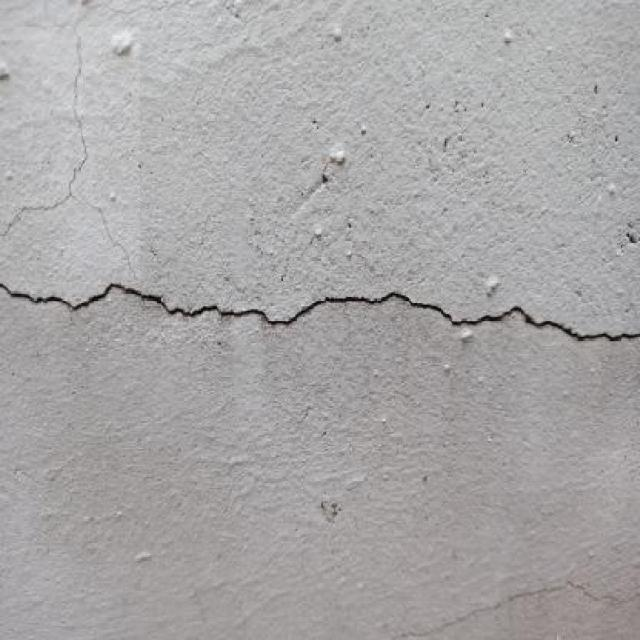horizontal crack: (0, 285, 639, 342)
multi-branched crack: (0, 28, 140, 292)
